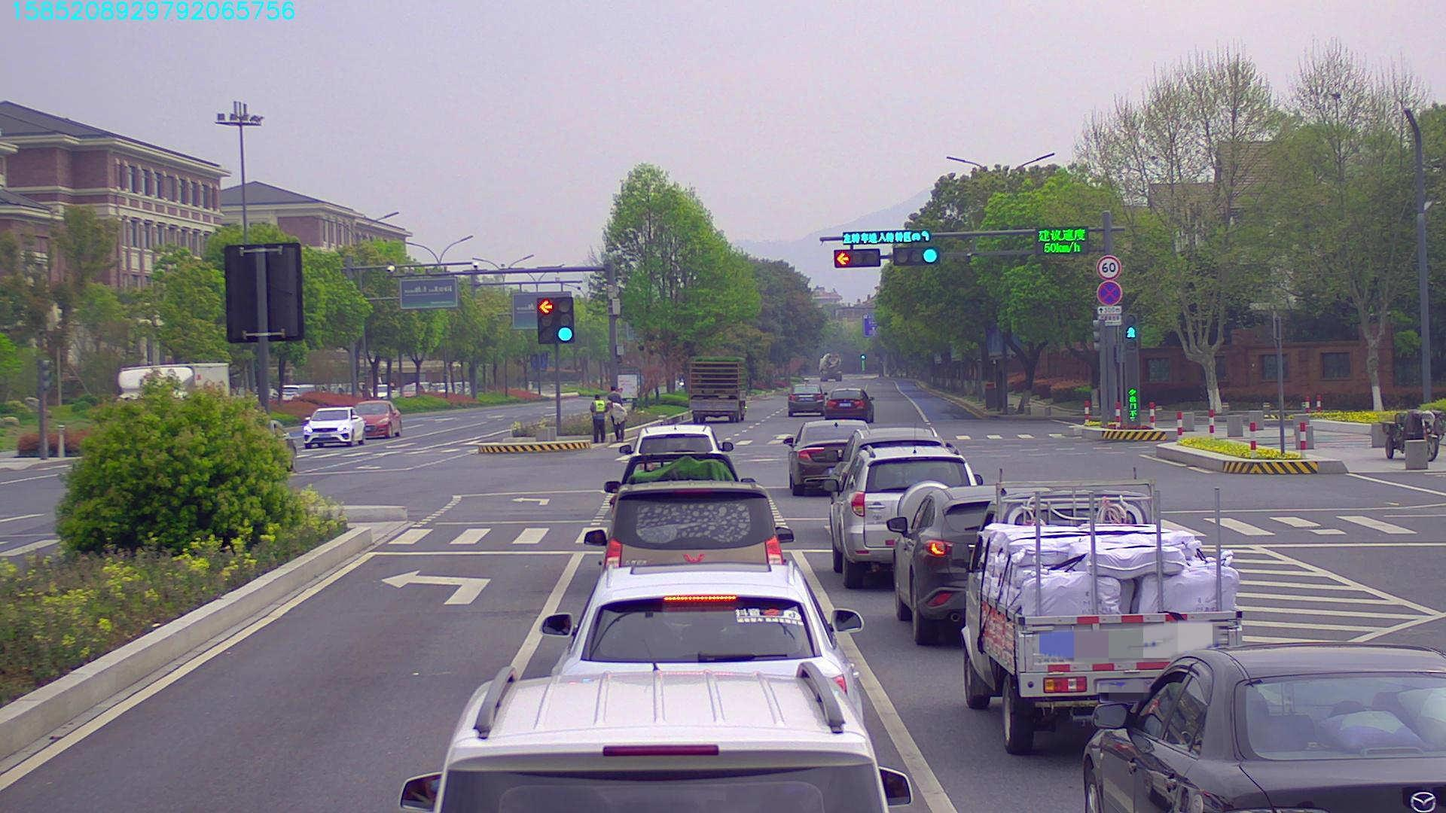green: (895, 248, 939, 264)
red: (833, 252, 886, 268)
wait_on: (834, 228, 931, 242)
